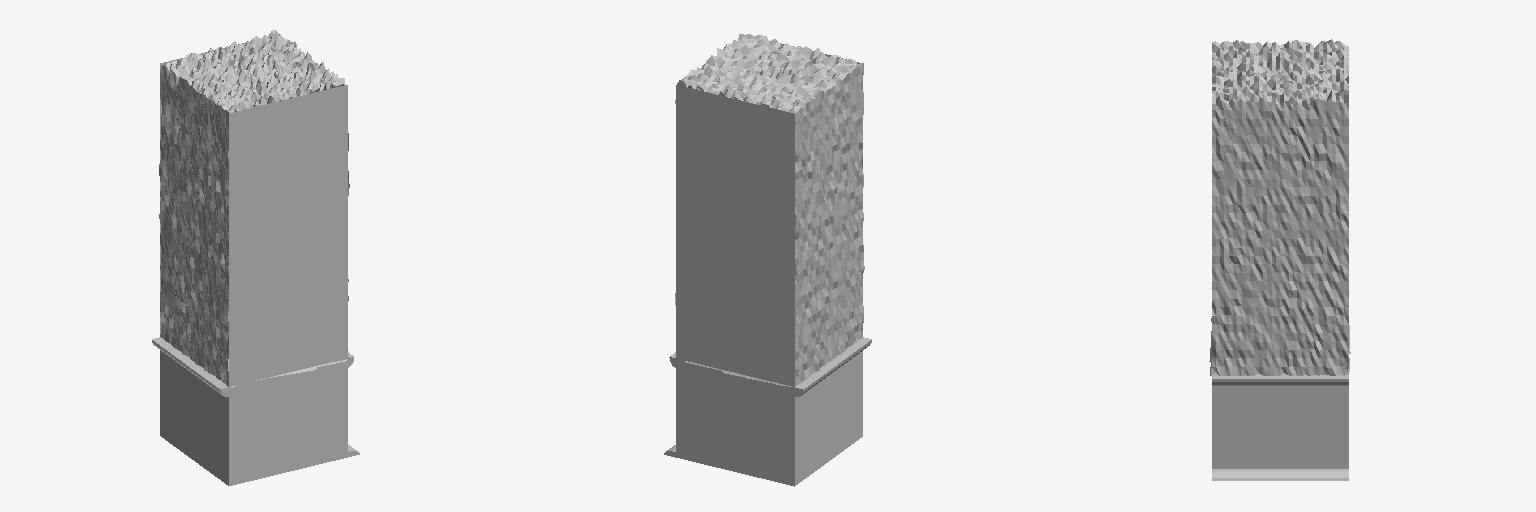
The model's file is buisson.obj.
The picture shows the model from 3 angles: view 1: azimuth 30°, elevation 25°; view 2: azimuth 150°, elevation 25°; view 3: azimuth 270°, elevation 25°; orthographic projection.
Visible parts, largest first — view 1: Cube.002_Cube.003; view 2: Cube.002_Cube.003; view 3: Cube.002_Cube.003.
Part boxes in pixels (x1,y1,x2,y2): Cube.002_Cube.003: (152, 30, 359, 485); Cube.002_Cube.003: (664, 34, 871, 486); Cube.002_Cube.003: (1209, 39, 1350, 480).
Size of the model in its own units: 1.18 by 3.07 by 1.03.